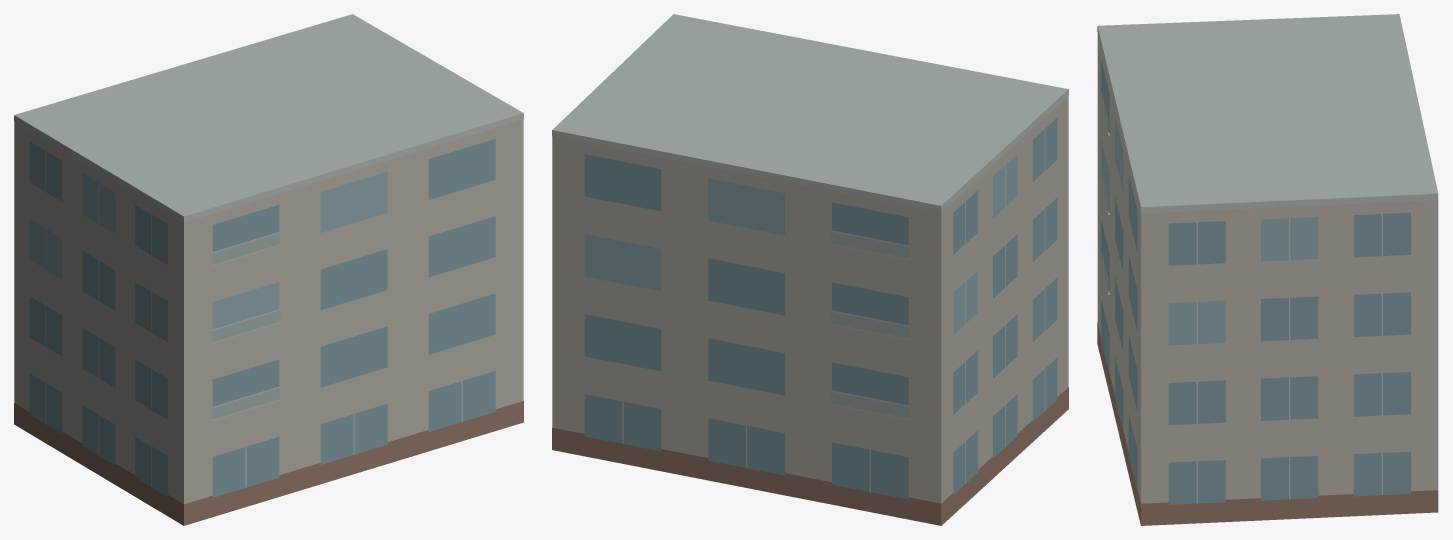
Rendered from survey-upis-32760340.glb.
The picture shows the model from 3 angles, left to right: view 1: azimuth 30°, elevation 25°; view 2: azimuth 150°, elevation 25°; view 3: azimuth 270°, elevation 25°; orthographic projection. The views are drawn at different scales.
Visible parts, largest first — view 1: survey-upis-32760340.tmp; view 2: survey-upis-32760340.tmp; view 3: survey-upis-32760340.tmp.
Boxes of the visible parts, x1,y1,x2,y2 form: survey-upis-32760340.tmp: (14,14,523,525); survey-upis-32760340.tmp: (552,14,1068,525); survey-upis-32760340.tmp: (1097,14,1438,525).
Bounding box in the file's own units: 16 × 12.3 × 11.93.
